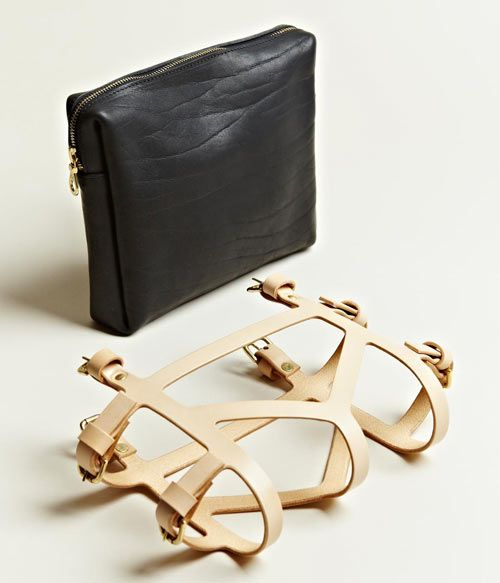cuero: (65, 24, 317, 336)
